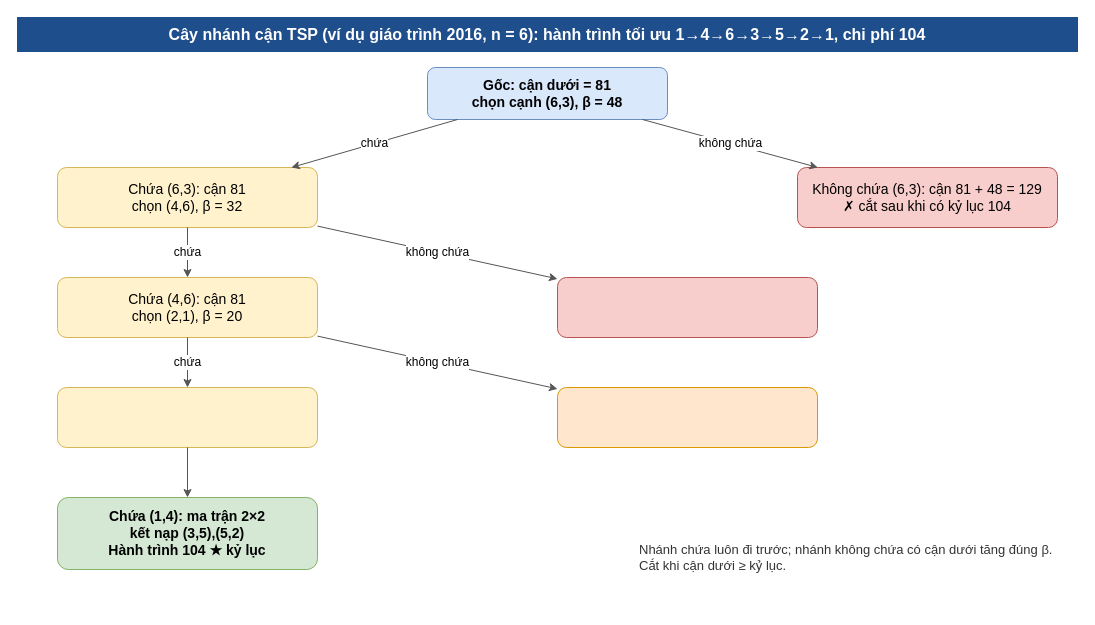
Image size: 1095x625. Some labels were removed from this diagram. Here are the shapes that lost their labels. From the top down, the centre of each, then its label:
the point at 687,307: Không chứa (4,6): cận 81 + 32 = 113 ✗ cắt (≥ 104)
the point at 187,417: Chứa (2,1): cận 84 chọn (1,4)
the point at 687,417: Không chứa (2,1): cận 101 < 104 xét sau, không cải thiện
